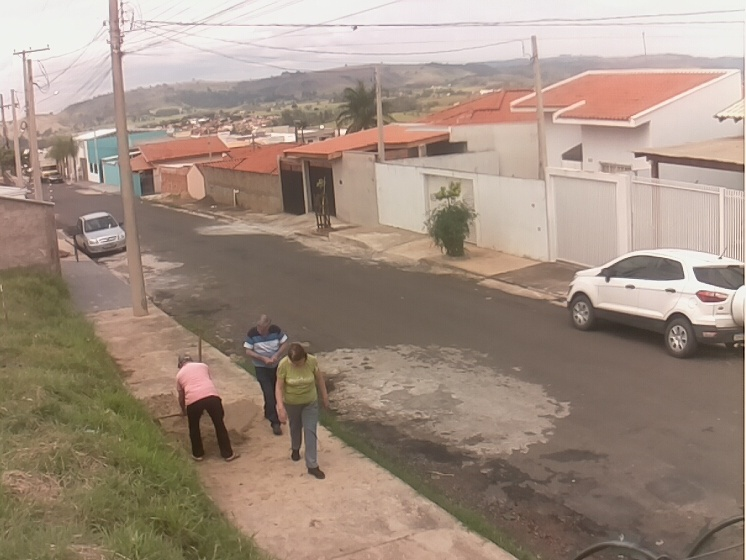person: (272, 343, 331, 481), (175, 353, 240, 463), (243, 315, 287, 436)
